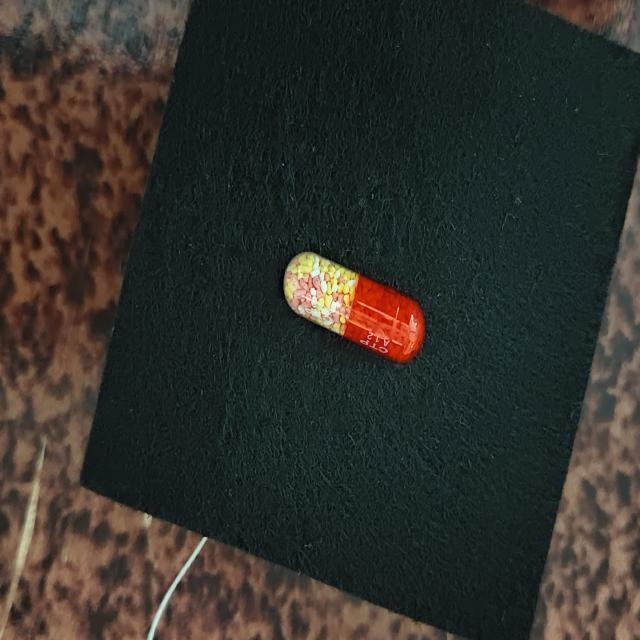Intact Capsule: (283, 251, 425, 362)
